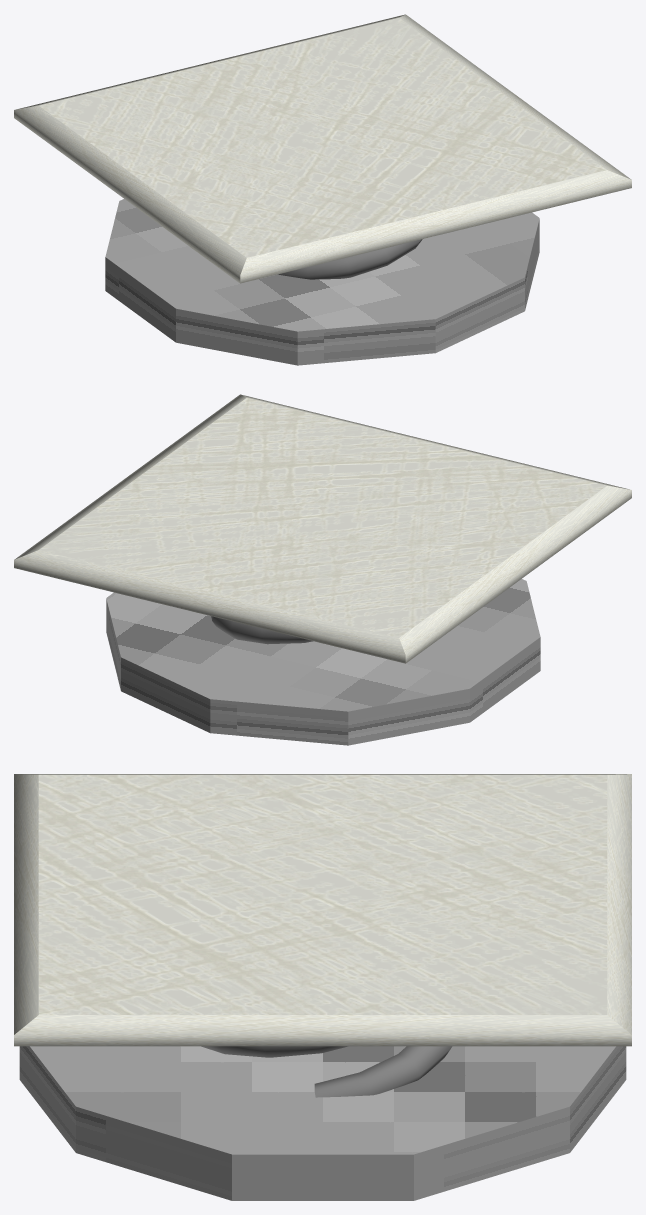
Rendered from springboard.obj.
3 views of the same model, one above another, from view 1: azimuth 30°, elevation 25°; view 2: azimuth 150°, elevation 25°; view 3: azimuth 270°, elevation 25° (orthographic). The views are drawn at different scales.
Visible parts, largest first — view 1: Box001, Gengon001, Spring002; view 2: Box001, Gengon001, Spring001; view 3: Box001, Gengon001, Spring001, Spring002.
Part boxes in pixels (x1,y1,x2,y2): Box001: (14, 14, 631, 283); Gengon001: (105, 199, 539, 365); Spring002: (278, 239, 422, 279); Box001: (14, 394, 631, 663); Gengon001: (106, 579, 540, 745); Spring001: (211, 616, 313, 644); Box001: (14, 774, 631, 1046); Gengon001: (19, 1046, 626, 1200); Spring001: (314, 1046, 452, 1097); Spring002: (201, 1046, 347, 1057).
Size of the model in its own units: 44.02 by 14.45 by 44.02.
